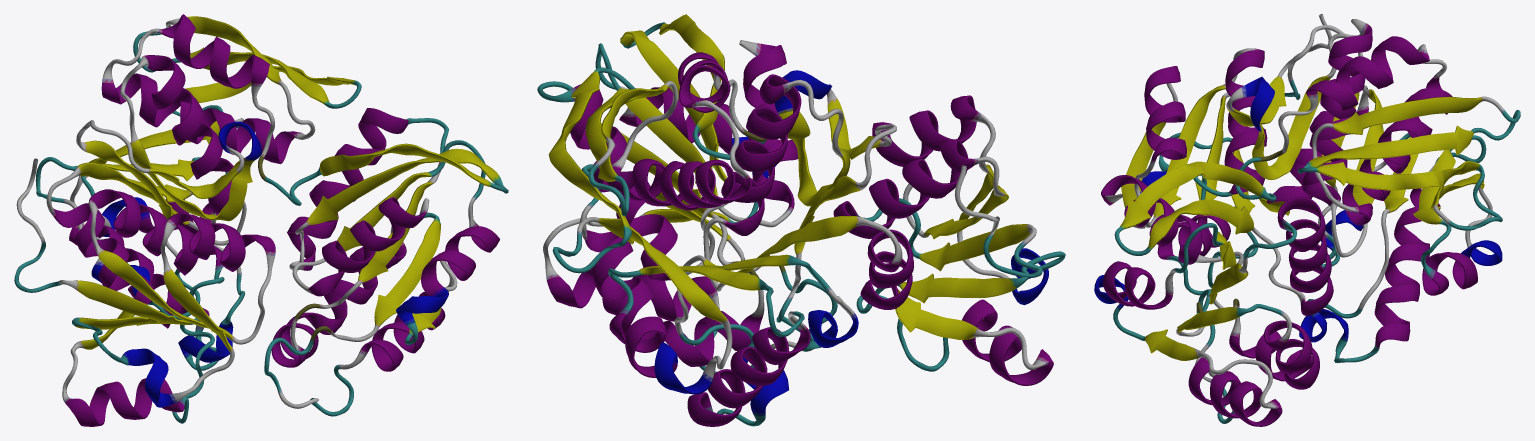
File: murC.obj
The picture shows the model from 3 angles, left to right: view 1: azimuth 30°, elevation 25°; view 2: azimuth 150°, elevation 25°; view 3: azimuth 270°, elevation 25°; orthographic projection. The views are drawn at different scales.
Visible parts, largest first — view 1: vmd_mol1_rep0; view 2: vmd_mol1_rep0; view 3: vmd_mol1_rep0.
Part boxes in pixels (box(x1,y1,x2,y2)): vmd_mol1_rep0: box(14, 14, 508, 426); vmd_mol1_rep0: box(537, 14, 1065, 426); vmd_mol1_rep0: box(1094, 14, 1520, 426).
Bounding box in the file's own units: 1.4 × 1.09 × 1.2.
